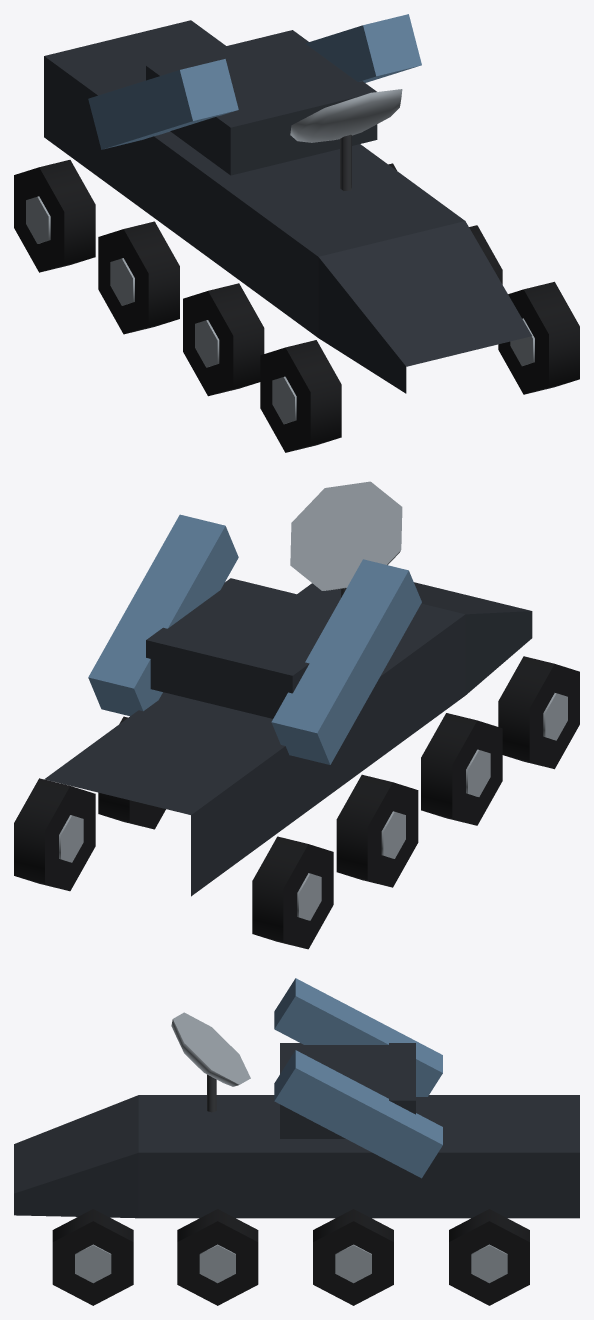
File: veh_ground_aa_wheeled_a09_lod1.glb
The picture shows the model from 3 angles, top to bottom: view 1: azimuth 30°, elevation 25°; view 2: azimuth 150°, elevation 25°; view 3: azimuth 270°, elevation 25°; orthographic projection. The views are drawn at different scales.
Parts seen in each view (by area): view 1: body, turret, wheel_6, wheel_0, wheel_2, wheel_4, wheel_7, radar; view 2: turret, body, radar, wheel_2, wheel_4, wheel_0, wheel_1, wheel_6, wheel_3; view 3: body, turret, wheel_5, wheel_7, wheel_3, wheel_1, radar.
Part boxes in pixels (left/top/right/bottom): body: left=44, top=20, right=531, bottom=393; turret: left=88, top=14, right=421, bottom=175; wheel_6: left=260, top=340, right=341, bottom=452; wheel_0: left=14, top=160, right=95, bottom=272; wheel_2: left=98, top=221, right=179, bottom=334; wheel_4: left=183, top=283, right=264, bottom=396; wheel_7: left=498, top=281, right=579, bottom=394; radar: left=290, top=89, right=402, bottom=190; turret: left=88, top=514, right=421, bottom=764; body: left=44, top=582, right=532, bottom=896; radar: left=290, top=481, right=402, bottom=597; wheel_2: left=336, top=774, right=418, bottom=887; wheel_4: left=421, top=713, right=502, bottom=825; wheel_0: left=252, top=836, right=333, bottom=949; wheel_1: left=14, top=778, right=95, bottom=891; wheel_6: left=498, top=656, right=579, bottom=769; wheel_3: left=98, top=716, right=165, bottom=829; body: left=14, top=1095, right=579, bottom=1218; turret: left=274, top=978, right=442, bottom=1178; wheel_5: left=177, top=1209, right=258, bottom=1305; wheel_7: left=52, top=1209, right=133, bottom=1305; wheel_3: left=313, top=1209, right=393, bottom=1305; wheel_1: left=449, top=1209, right=529, bottom=1305; radar: left=171, top=1012, right=250, bottom=1112.
Bounding box in the file's own units: 2.98 × 3.04 × 6.65.
